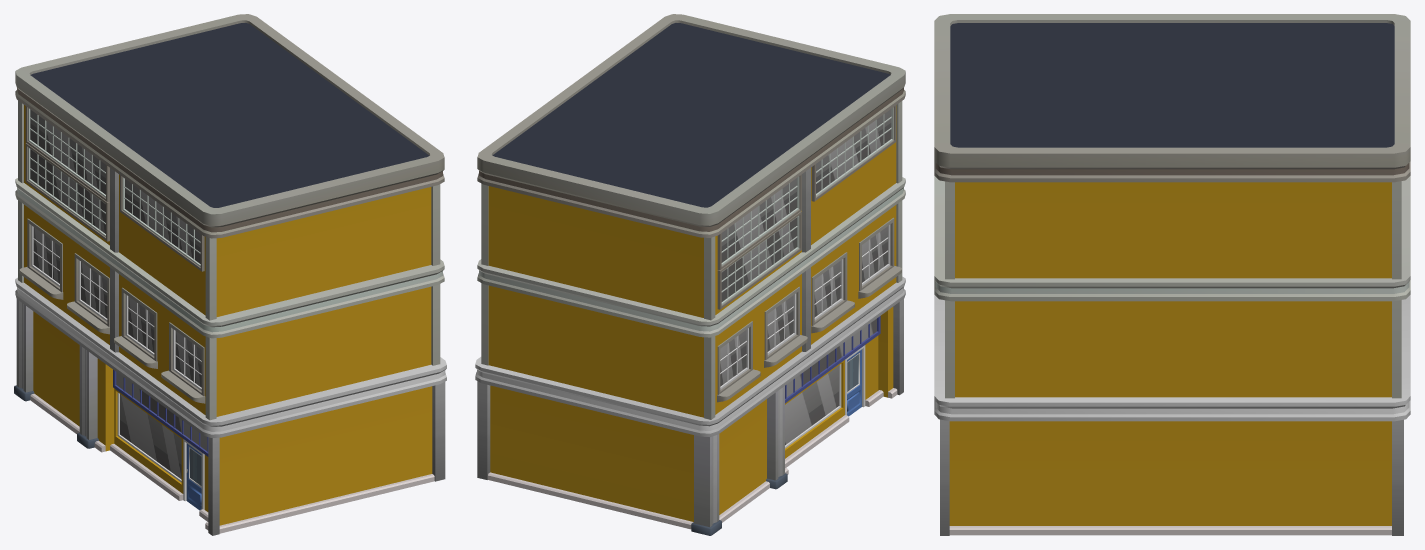
The model's file is Building_11_1_G.fbx.
3 renders of one model, left to right at view 1: azimuth 30°, elevation 25°; view 2: azimuth 150°, elevation 25°; view 3: azimuth 270°, elevation 25°, orthographic. The views are drawn at different scales.
Visible parts, largest first — view 1: Building_11_1_G; view 2: Building_11_1_G; view 3: Building_11_1_G.
Boxes of the visible parts, x1,y1,x2,y2 form: Building_11_1_G: (14, 14, 446, 535); Building_11_1_G: (475, 14, 905, 535); Building_11_1_G: (934, 14, 1410, 535).
Size of the model in its own units: 827 by 1034 by 1163.
